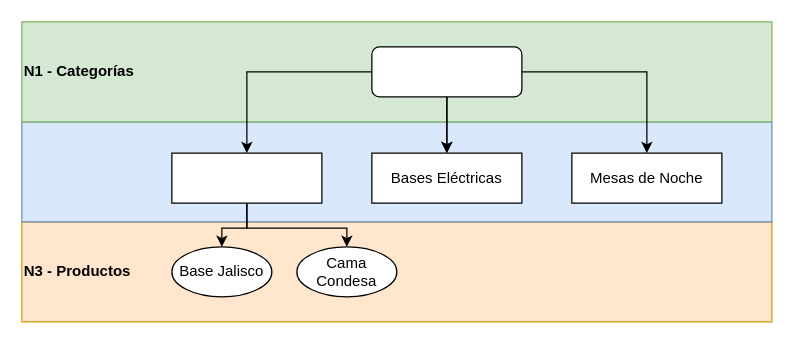
The diagram is 794 pixels wide and 344 high, and some of its shapes have lost their labels. The box of each missing label's shape, as (x1, y1, x2, y2) in pixels:
Camas y Bases: (171, 152, 322, 203)
Muebles: (371, 46, 522, 97)
N2 - Subcategorías: (21, 121, 772, 222)
